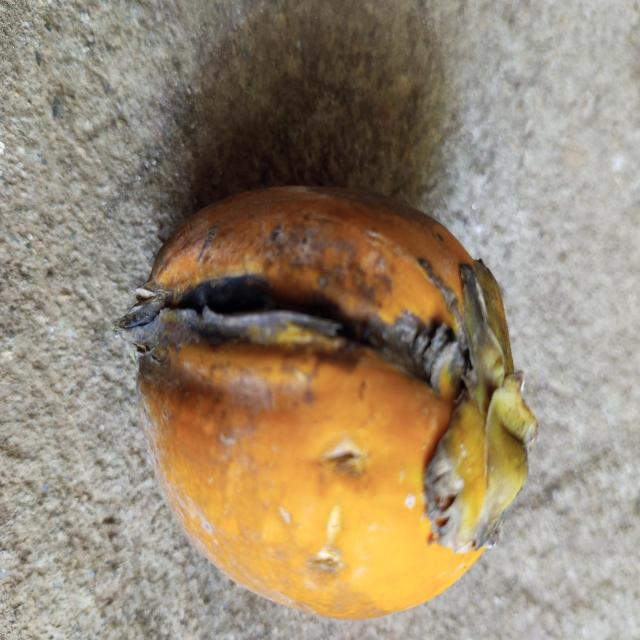damaged: (117, 186, 538, 623)
